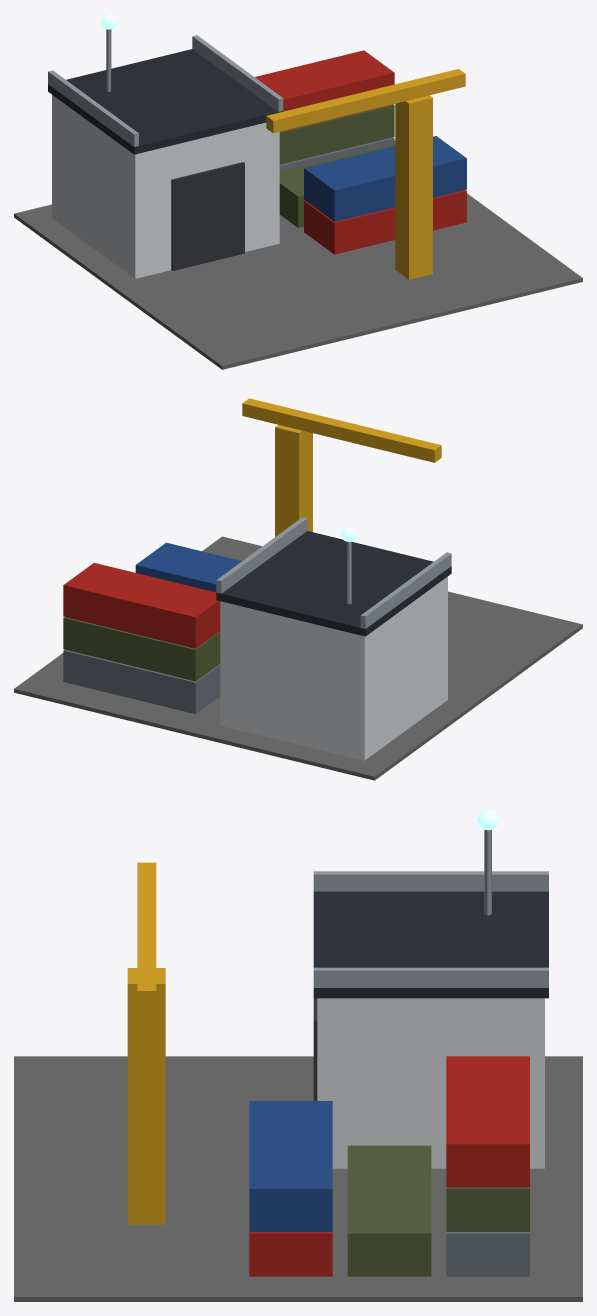
File: bld_special_logistics_depot_a08_lod1.glb
3 renders of one model, top to bottom at view 1: azimuth 30°, elevation 25°; view 2: azimuth 150°, elevation 25°; view 3: azimuth 270°, elevation 25°, orthographic. The views are drawn at different scales.
Visible parts, largest first — view 1: body, crane; view 2: body, crane; view 3: body, crane.
Part boxes in pixels (x1,y1,x2,y2): body: (14,14,582,369); crane: (266,69,465,279); body: (14,517,582,780); crane: (242,398,441,536); body: (14,809,582,1301); crane: (127,862,165,1224).
Size of the model in its own units: 15 by 8.5 by 15.
